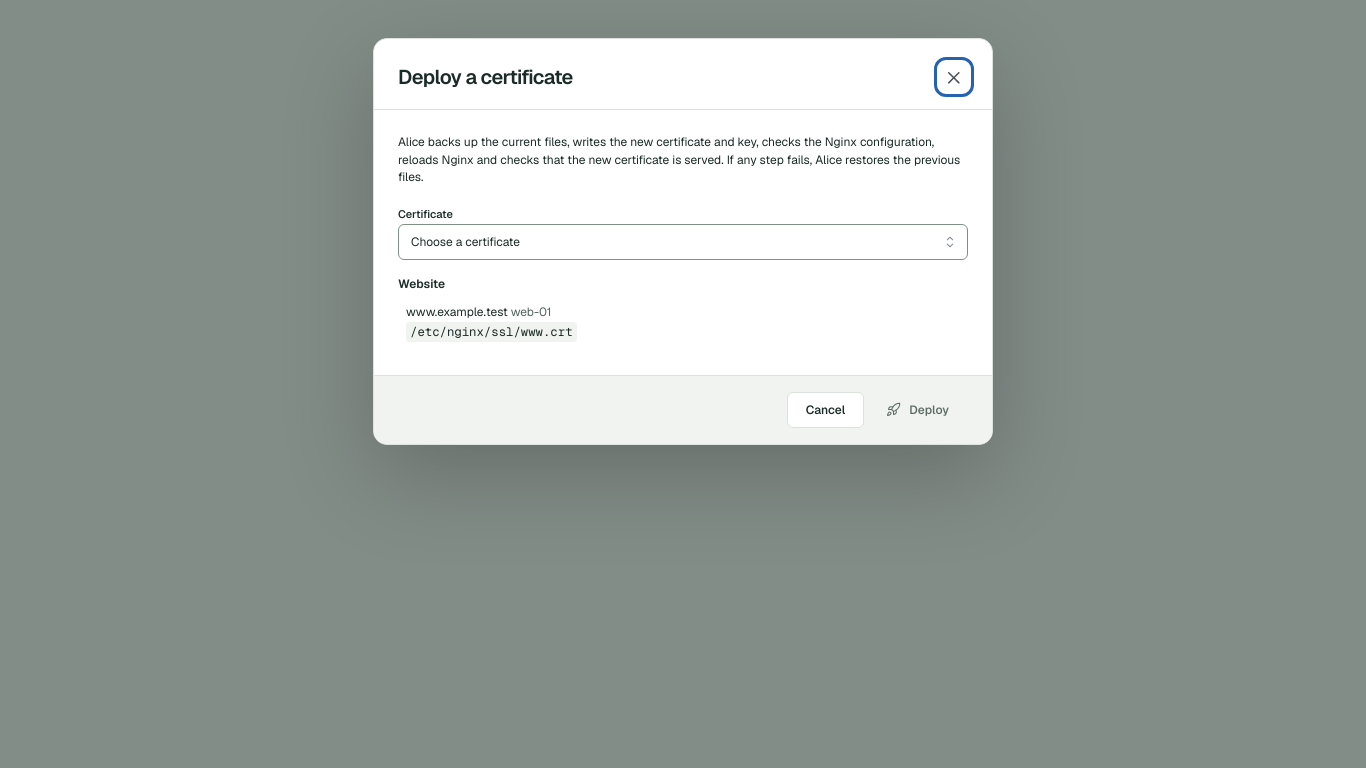
Test: DeployDialog from a website › keeps the dialog and the chosen certificate and highlights the website the server refused
Select "new.example.test (ECDSA, valid until Sep 1, 2027)" in the dropdown labelled "Certificate" at (683, 242), box [398, 224, 968, 260]
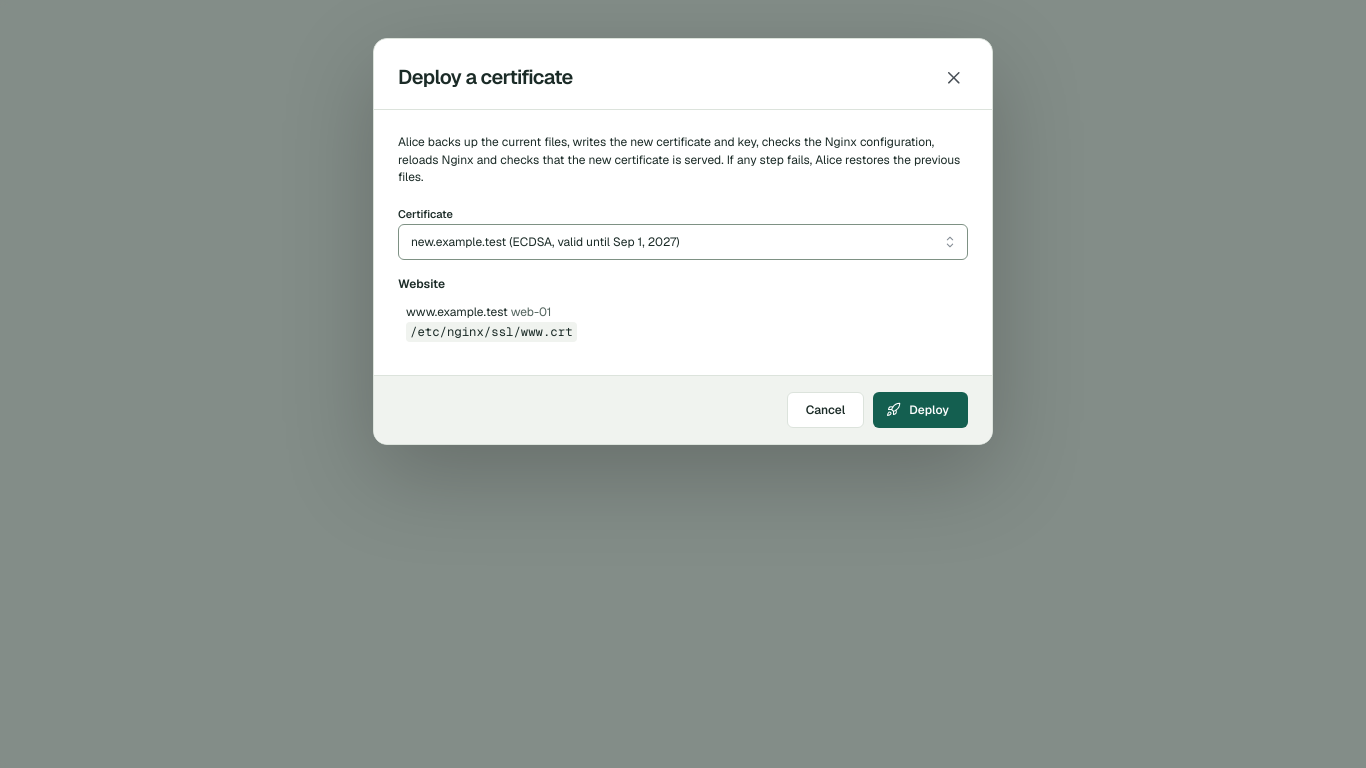
Click the button "Deploy" at (921, 410), box [873, 392, 968, 428]
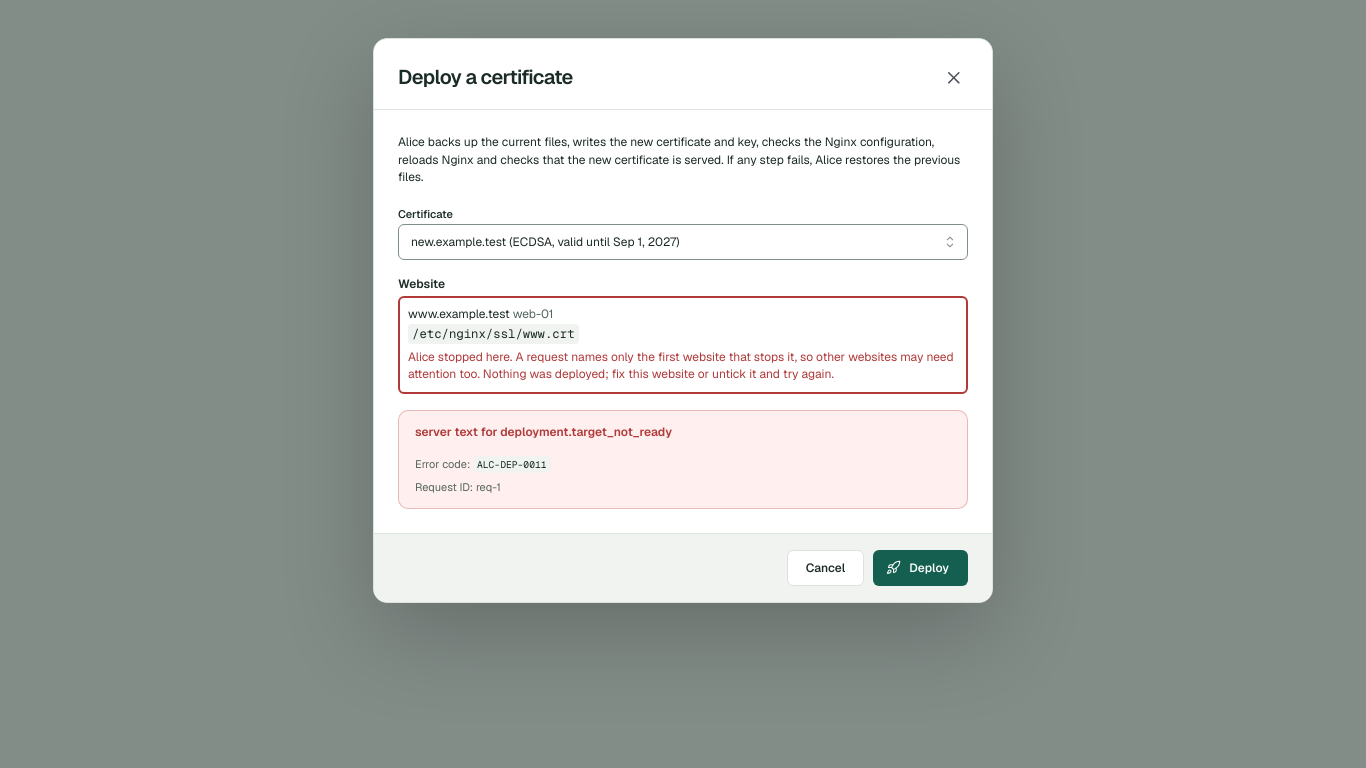
expect the element that starts with "www.example.test" is shown: met, box [398, 296, 968, 394]
expect the button "Deploy" is enabled: met, box [873, 550, 968, 586]
expect the text "Alice stopped here" is shown: met, box [408, 349, 954, 382]
